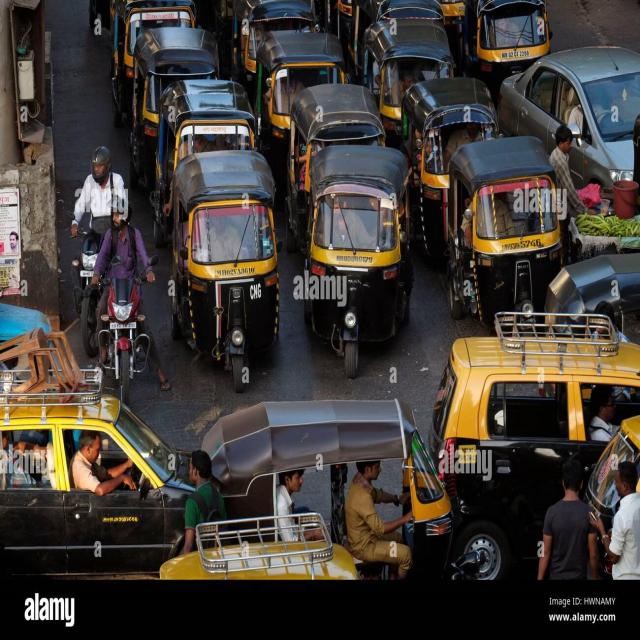autorikshaw: (203, 400, 459, 596), (175, 150, 282, 386), (302, 145, 412, 373), (443, 141, 569, 328), (406, 79, 505, 259), (288, 79, 388, 245), (132, 25, 223, 204), (158, 80, 258, 242), (253, 30, 343, 186)
